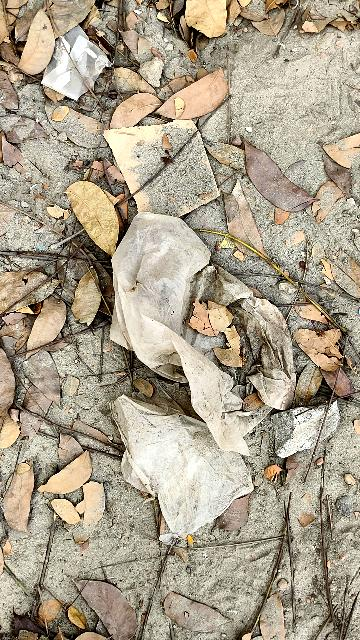polythene: (113, 238, 266, 511)
